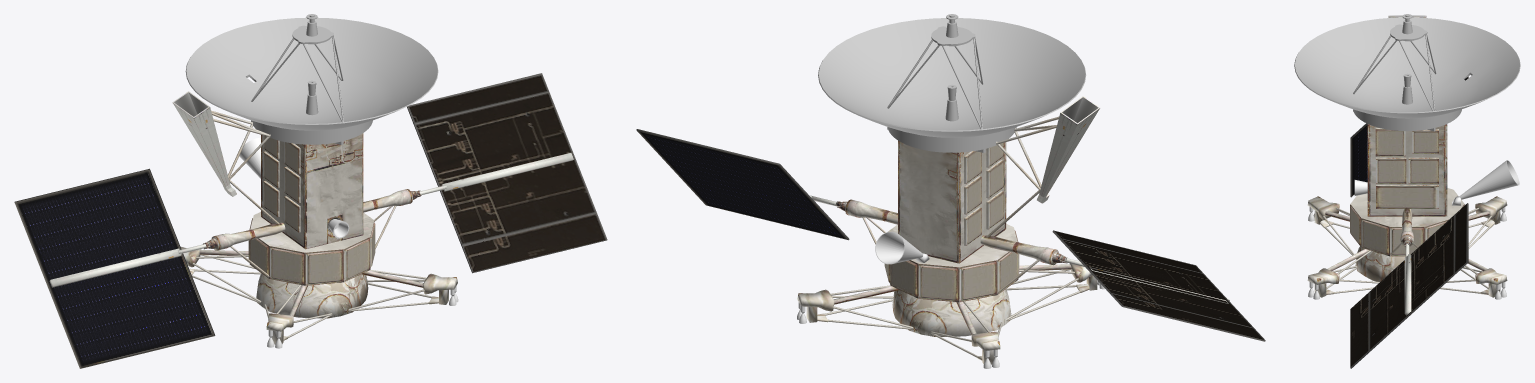
File: maggellan_ex_join.fbx
The picture shows the model from 3 angles, left to right: view 1: azimuth 30°, elevation 25°; view 2: azimuth 150°, elevation 25°; view 3: azimuth 270°, elevation 25°; orthographic projection. The views are drawn at different scales.
Visible parts, largest first — view 1: dish_etc; view 2: dish_etc; view 3: dish_etc.
Boxes of the visible parts, x1,y1,x2,y2 form: dish_etc: (14,14,607,368); dish_etc: (636,14,1265,368); dish_etc: (1294,14,1520,368).
Size of the model in its own units: 8.9 by 4.53 by 3.7.
